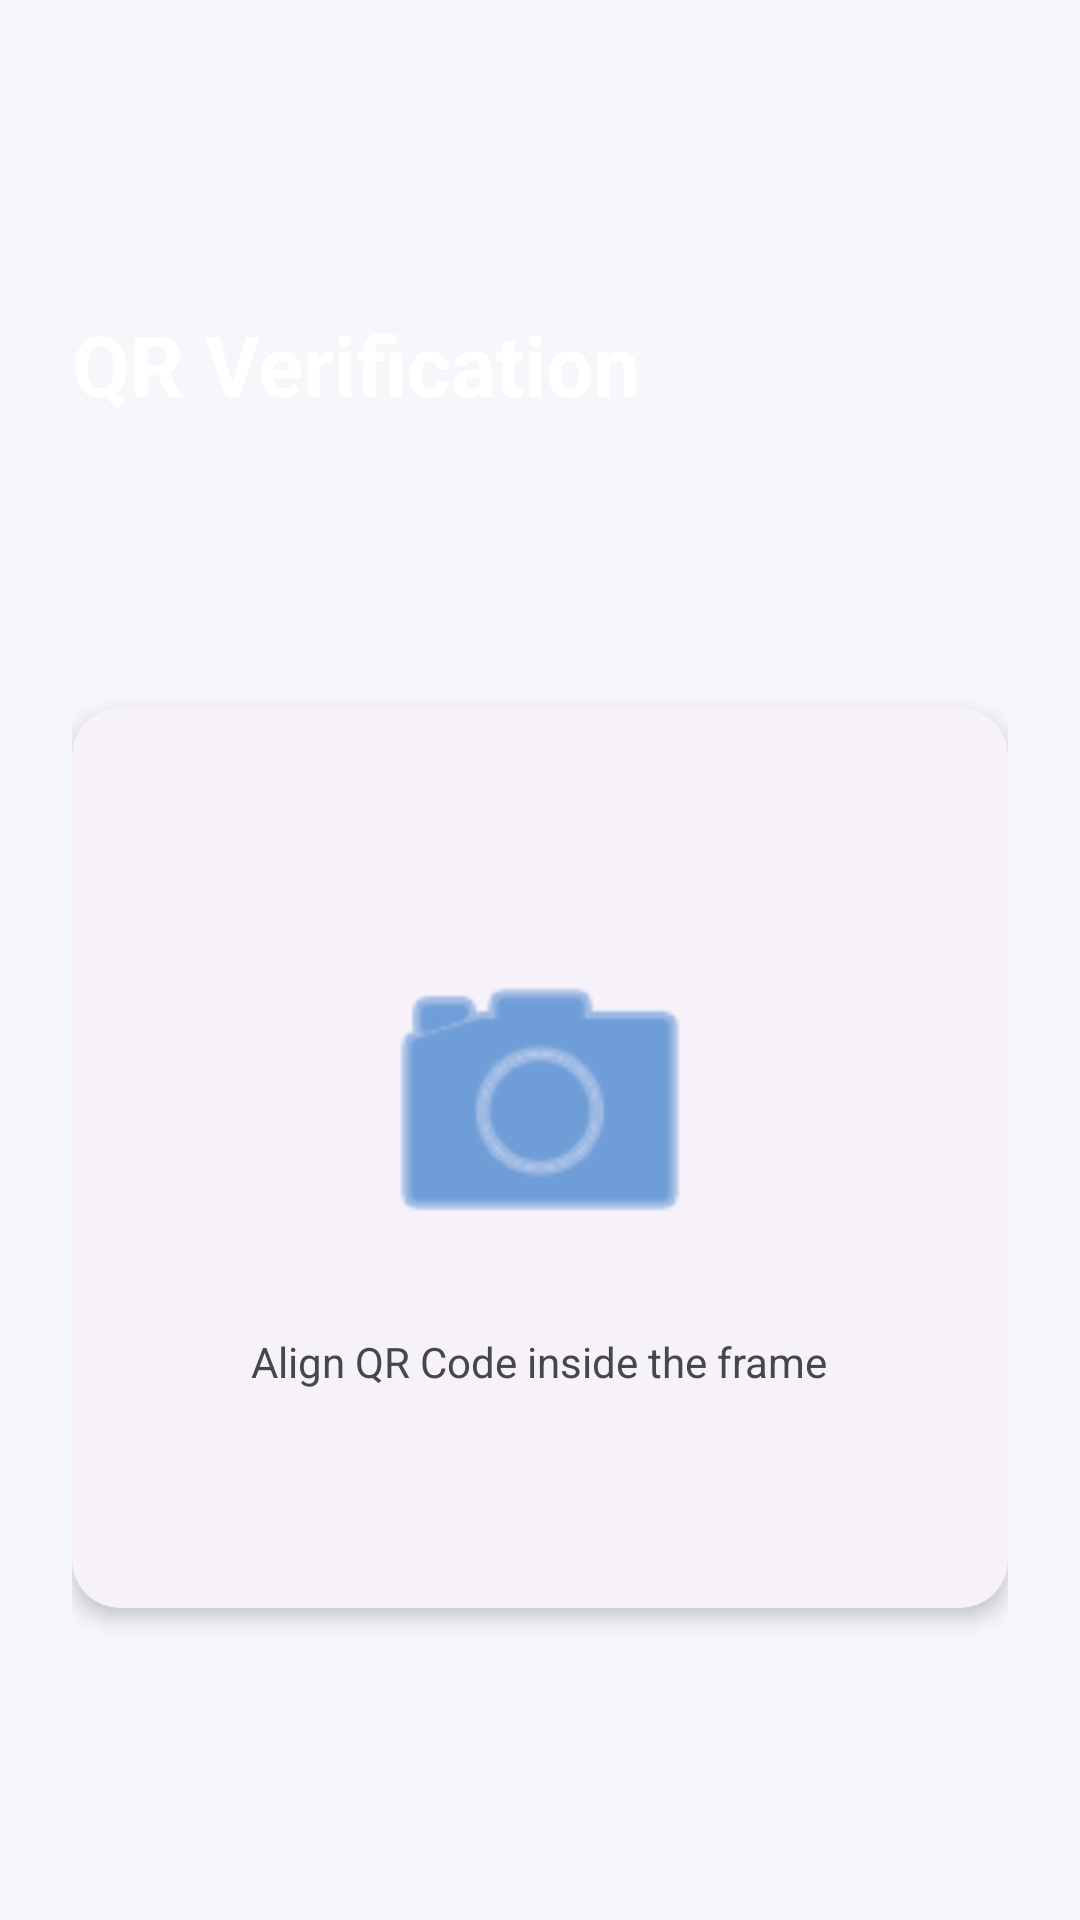

Where icons sit on this 1080 × 1920 app screen, as (x1, y1, x2, y2):
Scanner Icon: (401, 988, 679, 1210)
